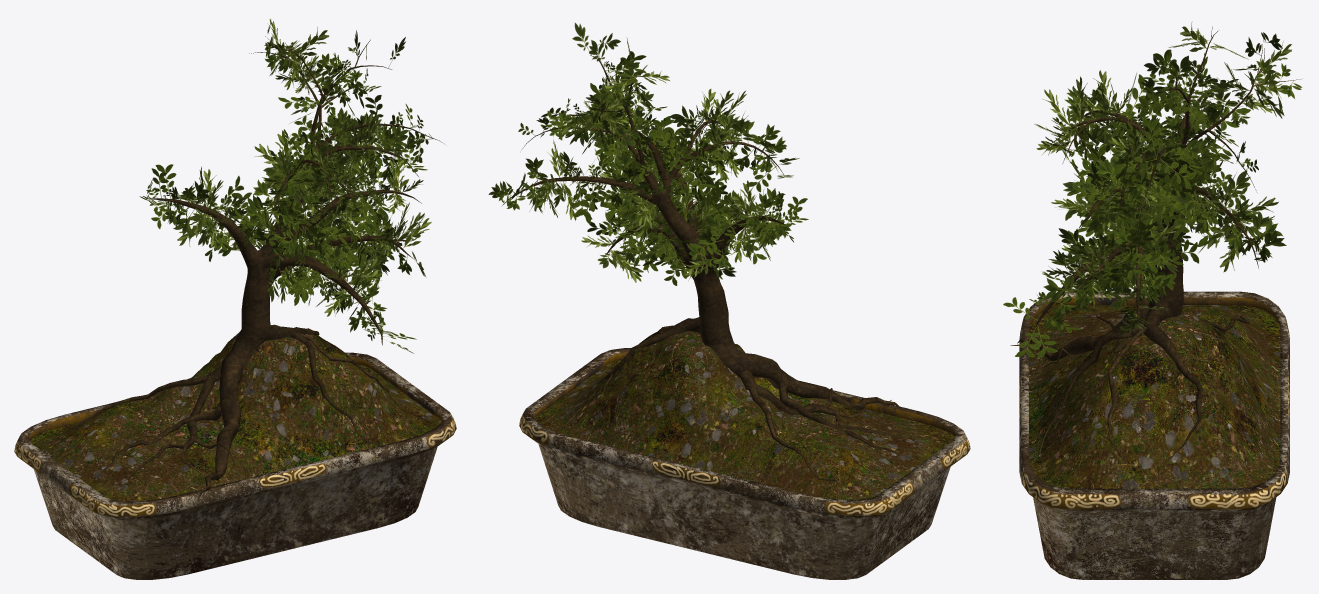
Rendered from bonsai.glb.
The picture shows the model from 3 angles, left to right: view 1: azimuth 30°, elevation 25°; view 2: azimuth 150°, elevation 25°; view 3: azimuth 270°, elevation 25°; orthographic projection. The views are drawn at different scales.
Visible parts, largest first — view 1: bonsai; view 2: bonsai; view 3: bonsai.
Part boxes in pixels (x1,y1,x2,y2): bonsai: (14, 18, 456, 579); bonsai: (488, 22, 970, 579); bonsai: (1003, 21, 1302, 579).
Size of the model in its own units: 35.9 by 41.03 by 21.12.
Materials: 5 (5 with a texture image).
